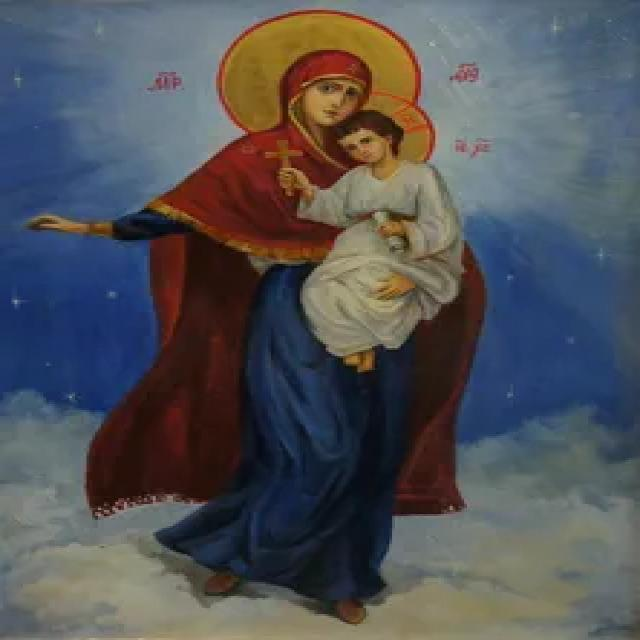mother of god: (0, 42, 519, 626)
